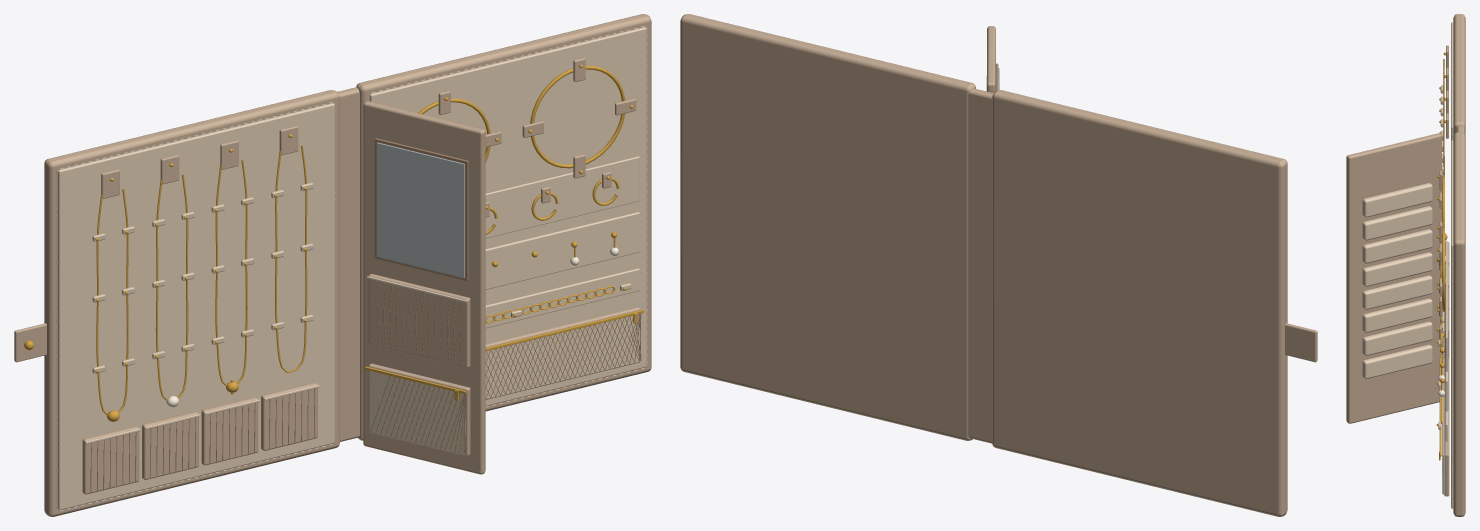
3 renders of one model, left to right at view 1: azimuth 30°, elevation 25°; view 2: azimuth 150°, elevation 25°; view 3: azimuth 270°, elevation 25°, orthographic. The views are drawn at different scales.
Visible parts, largest first — view 1: Left leather shell, Hinged protective page & mirror, Right leather shell, Zipped mesh storage pocket, Flexible center spine, Small hoop holders, Stud and drop earring panel, Secured bracelet lane, Pendant pocket 1, Pendant pocket 3, Pendant pocket 4, Pendant pocket 2 (+7 smaller); view 2: Left leather shell, Right leather shell, Flexible center spine, Outer snap closure, Hinged protective page & mirror; view 3: Hinged protective page & mirror, Right leather shell, Left leather shell, Zipped mesh storage pocket, Small hoop holders, Stud and drop earring panel, Large hoop / bangle B, Large hoop / bangle A, Secured bracelet lane, Pendant pocket 4, Necklace lane 1, Necklace lane 2 (+2 smaller).
Part boxes in pixels (<box>): Left leather shell: <box>44,90,339,516</box>; Hinged protective page & mirror: <box>363,101,485,474</box>; Right leather shell: <box>356,14,651,440</box>; Zipped mesh storage pocket: <box>485,307,643,399</box>; Flexible center spine: <box>337,87,359,441</box>; Small hoop holders: <box>485,156,639,238</box>; Stud and drop earring panel: <box>485,212,639,289</box>; Secured bracelet lane: <box>485,268,639,328</box>; Pendant pocket 1: <box>82,426,140,494</box>; Pendant pocket 3: <box>201,397,259,465</box>; Pendant pocket 4: <box>261,382,319,450</box>; Pendant pocket 2: <box>142,411,200,479</box>; Left leather shell: <box>992,90,1287,516</box>; Right leather shell: <box>680,14,975,440</box>; Flexible center spine: <box>968,88,993,443</box>; Outer snap closure: <box>1285,323,1317,362</box>; Hinged protective page & mirror: <box>986,26,999,92</box>; Hinged protective page & mirror: <box>1346,133,1441,423</box>; Right leather shell: <box>1451,132,1465,516</box>; Left leather shell: <box>1451,14,1465,141</box>; Zipped mesh storage pocket: <box>1439,358,1449,496</box>; Small hoop holders: <box>1436,240,1447,371</box>; Stud and drop earring panel: <box>1438,285,1448,411</box>; Large hoop / bangle B: <box>1437,221,1444,316</box>; Large hoop / bangle A: <box>1437,170,1444,265</box>; Secured bracelet lane: <box>1436,339,1447,441</box>; Pendant pocket 4: <box>1442,310,1449,362</box>; Necklace lane 1: <box>1439,45,1448,240</box>; Necklace lane 2: <box>1439,68,1448,263</box>.
Size of the model in its own units: 0.448 by 0.24 by 0.0936.
